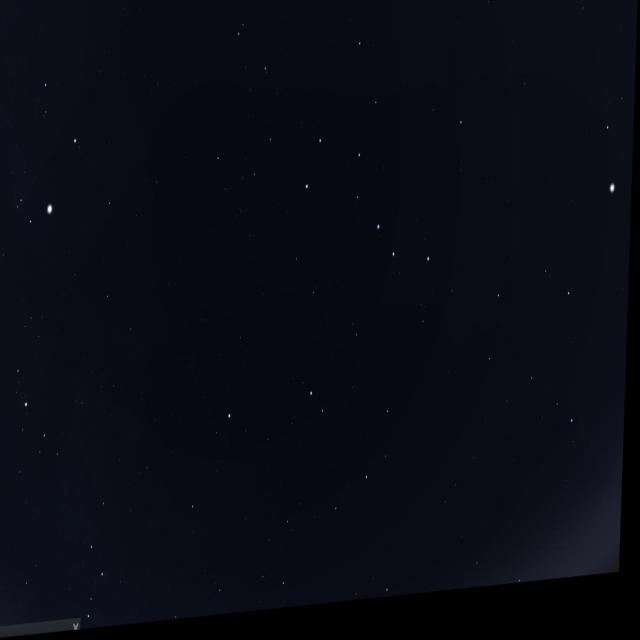cassiopeia: (74, 491, 157, 632)
ursa_major: (299, 127, 439, 294)
